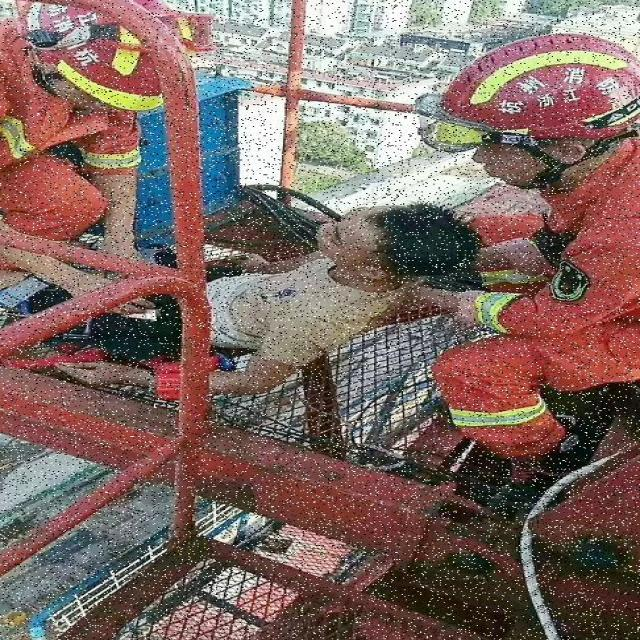fall: (88, 208, 423, 384)
